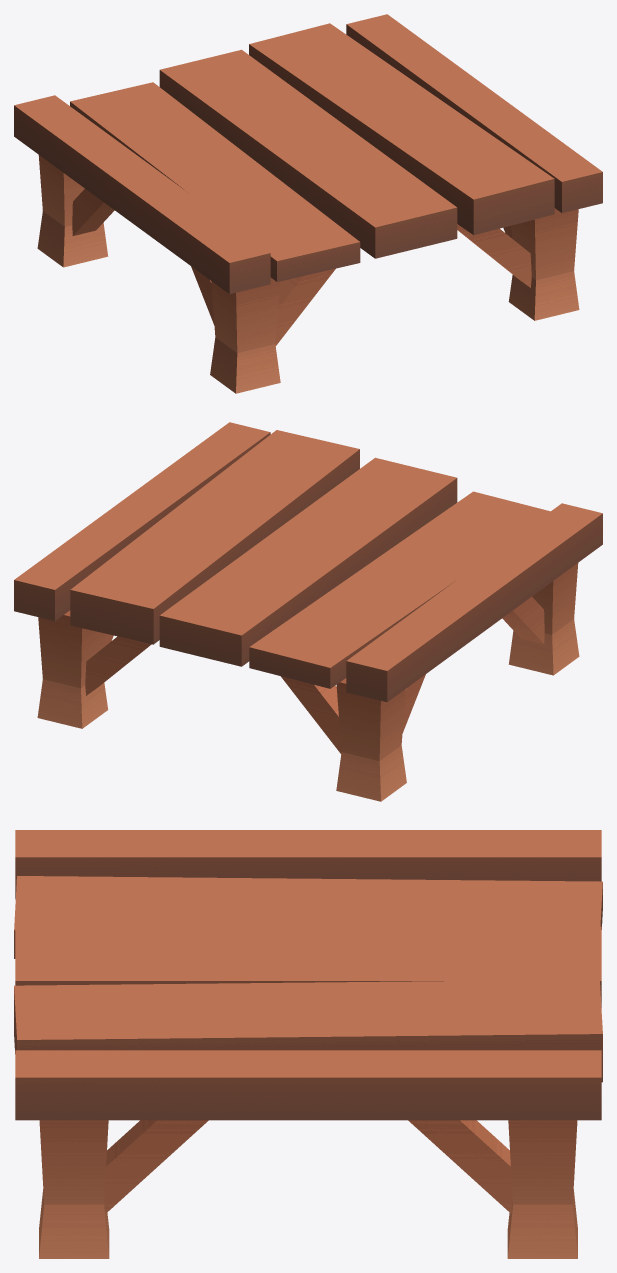
The model's file is structure-platform_no_normal.glb.
The picture shows the model from 3 angles, top to bottom: view 1: azimuth 30°, elevation 25°; view 2: azimuth 150°, elevation 25°; view 3: azimuth 270°, elevation 25°; orthographic projection. The views are drawn at different scales.
Parts seen in each view (by area): view 1: structure-platform; view 2: structure-platform; view 3: structure-platform.
Boxes of the visible parts, x1,y1,x2,y2 form: structure-platform: [14, 14, 602, 393]; structure-platform: [14, 422, 602, 801]; structure-platform: [14, 830, 602, 1258].
Bounding box in the file's own units: 2.5 × 0.928 × 2.51.
Materials: 1 (1 with a texture image).
